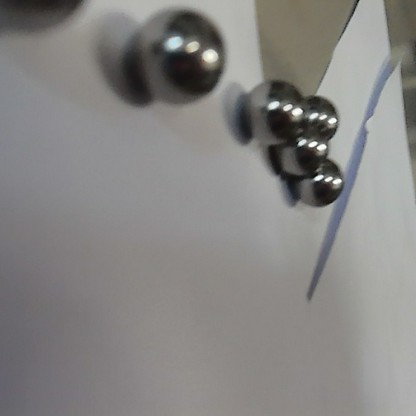ironball: (129, 7, 227, 105), (238, 75, 307, 145), (294, 158, 343, 208), (266, 138, 327, 177), (301, 88, 341, 141)
